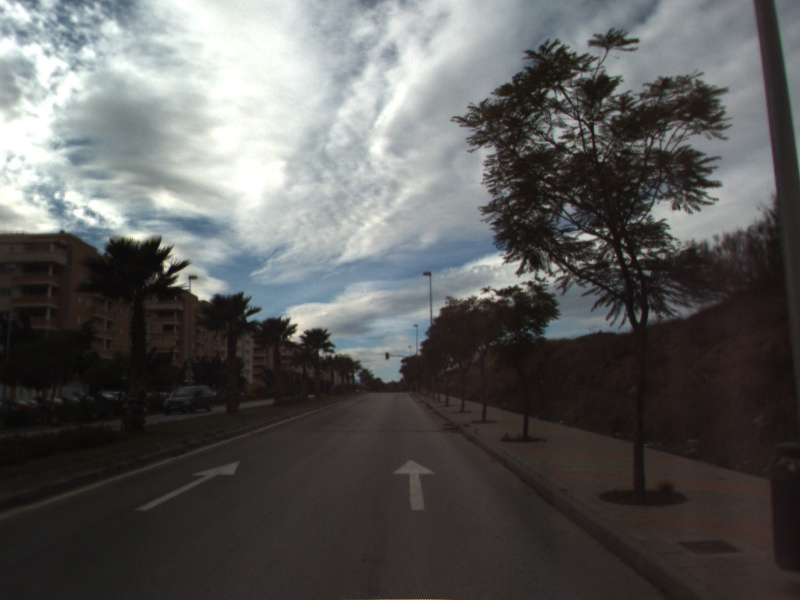STRAIGHT: (132, 459, 242, 513), (391, 457, 438, 512)
